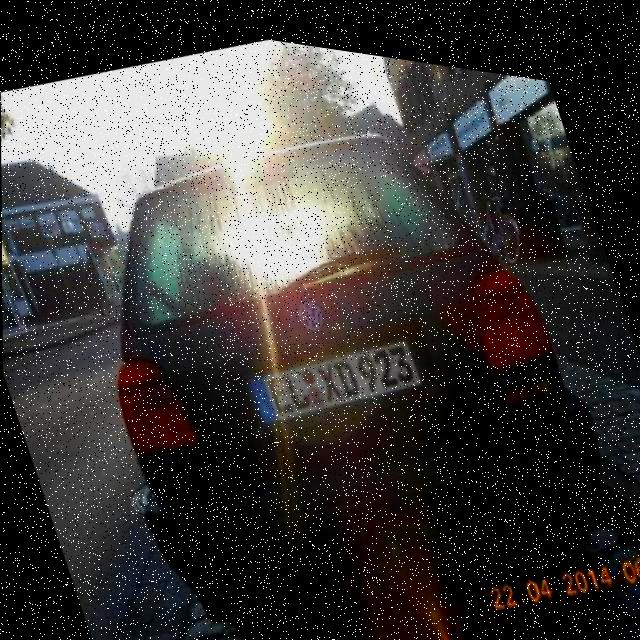license_plate: (242, 304, 427, 438)
